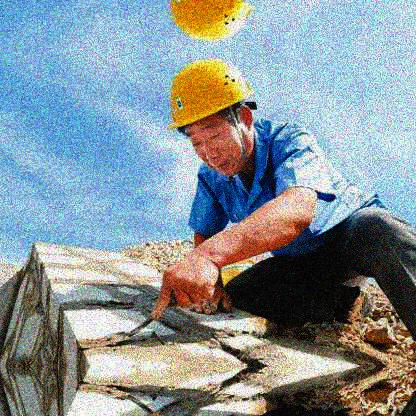helmet: (168, 59, 255, 177)
